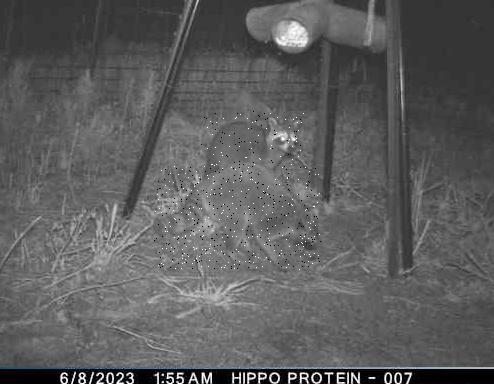Raccoon: (155, 167, 322, 271), (201, 112, 304, 176)
